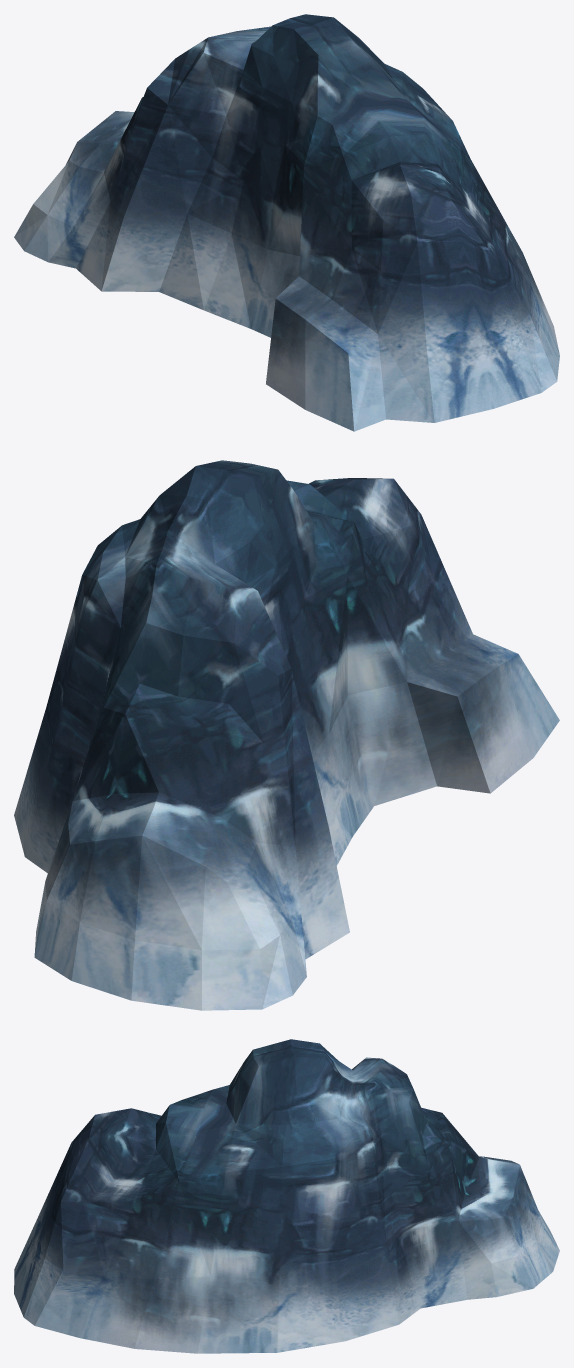
File: Ice_stone08.FBX
3 renders of one model, top to bottom at view 1: azimuth 30°, elevation 25°; view 2: azimuth 150°, elevation 25°; view 3: azimuth 270°, elevation 25°, orthographic. The views are drawn at different scales.
Parts seen in each view (by area): view 1: Object15628; view 2: Object15628; view 3: Object15628.
Boxes of the visible parts, x1=… form: Object15628: x1=14, y1=14, x2=559, y2=431; Object15628: x1=14, y1=460, x2=559, y2=1010; Object15628: x1=14, y1=1039, x2=559, y2=1353.
Size of the model in its own units: 299 by 237 by 491.
